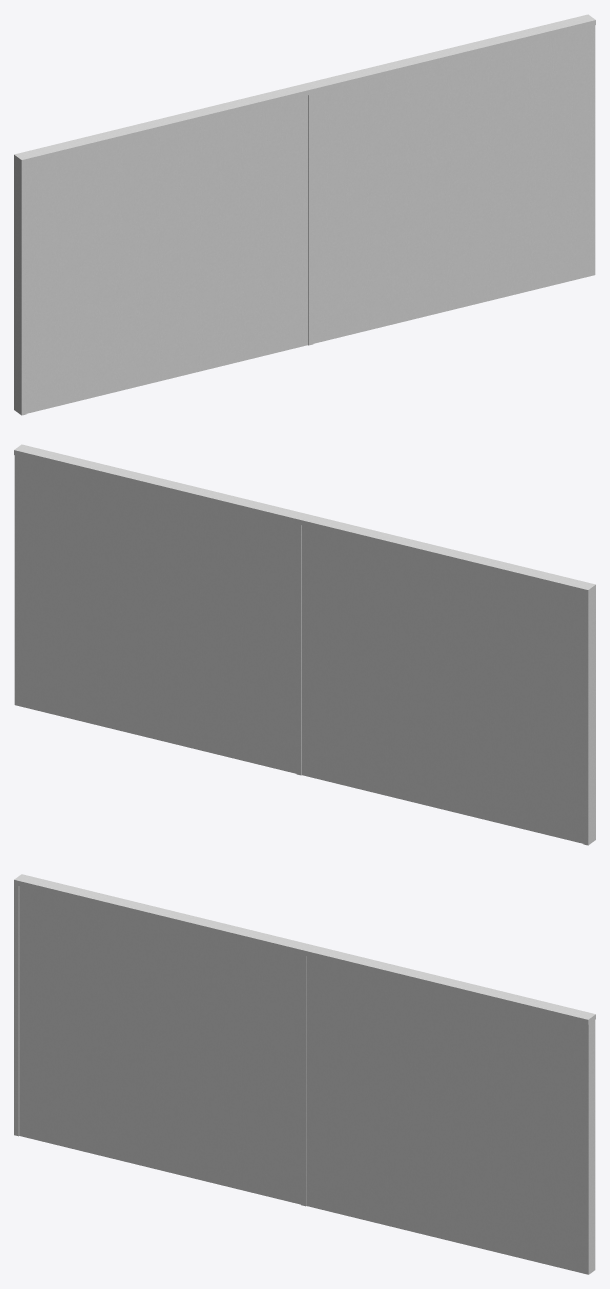
Rendered from PoolFenceConcrete01_2.FBX.
The picture shows the model from 3 angles, top to bottom: view 1: azimuth 30°, elevation 25°; view 2: azimuth 150°, elevation 25°; view 3: azimuth 330°, elevation 25°; orthographic projection.
Parts seen in each view (by area): view 1: PoolFenceConcrete01_2; view 2: PoolFenceConcrete01_2; view 3: PoolFenceConcrete01_2.
Boxes of the visible parts, x1,y1,x2,y2 form: PoolFenceConcrete01_2: [14, 14, 595, 415]; PoolFenceConcrete01_2: [14, 444, 595, 845]; PoolFenceConcrete01_2: [14, 874, 595, 1274].
Size of what is drawn, in the model's own units: 6 by 2.55 by 0.14.
